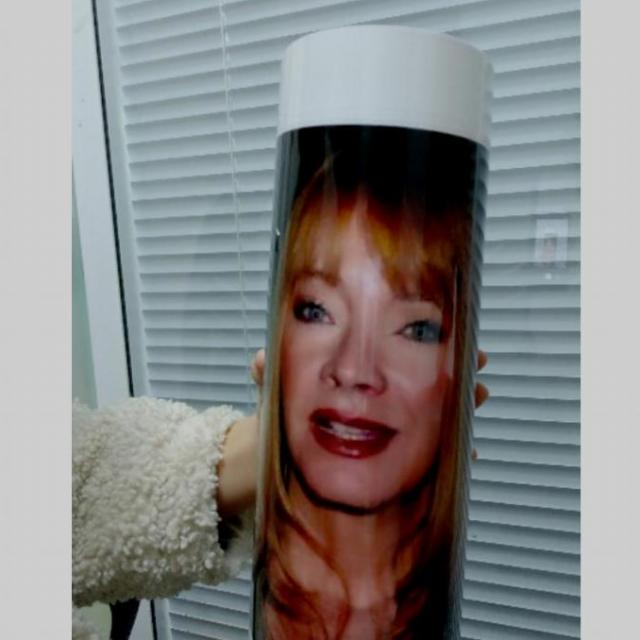photo: (230, 22, 506, 640)
